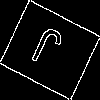J: (24, 24, 65, 78)
